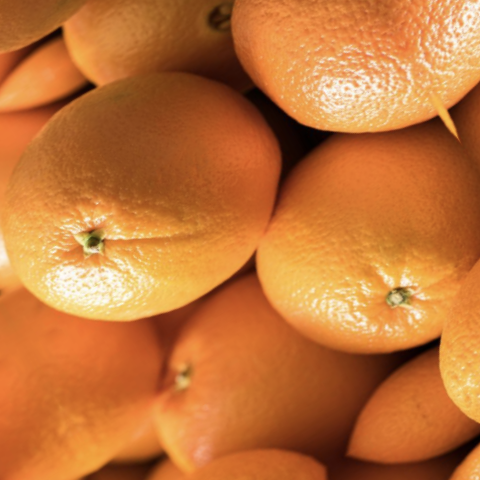orange: (0, 9, 344, 397), (183, 72, 480, 430)
